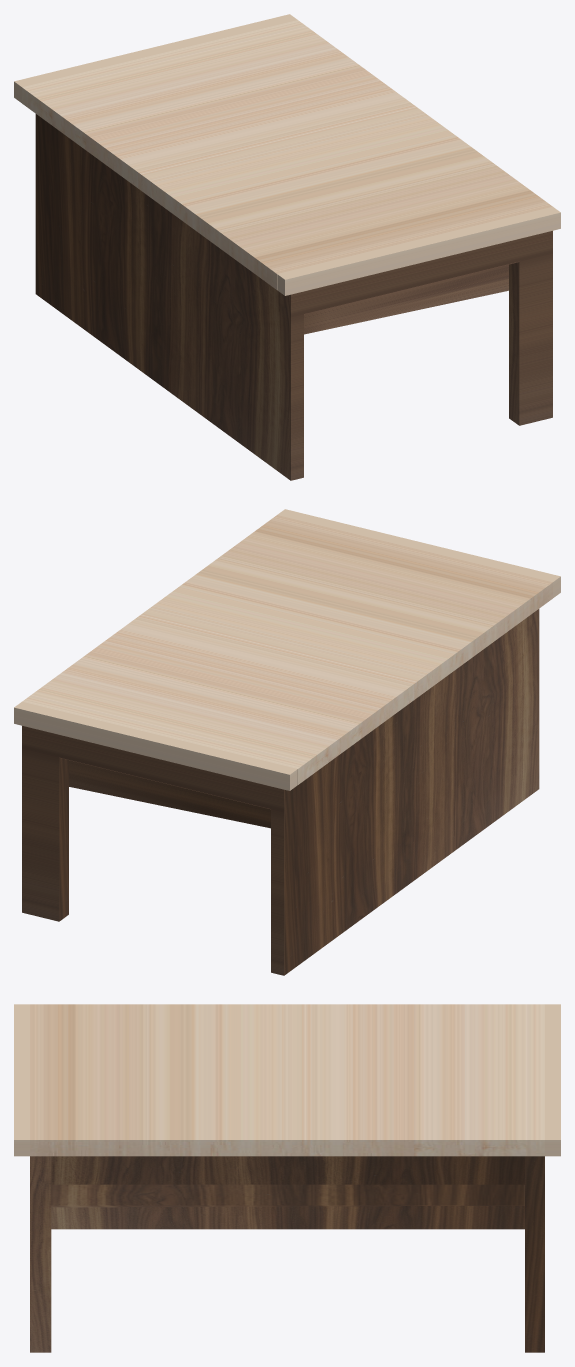
Rendered from Library_Table.fbx.
3 renders of one model, top to bottom at view 1: azimuth 30°, elevation 25°; view 2: azimuth 150°, elevation 25°; view 3: azimuth 270°, elevation 25°, orthographic.
Parts seen in each view (by area): view 1: pCube1; view 2: pCube1; view 3: pCube1.
Part boxes in pixels (x1,y1,x2,y2): pCube1: (14,14,560,480); pCube1: (14,509,560,975); pCube1: (14,1004,560,1352).
Bounding box in the file's own units: 3.97 × 2.9 × 6.76.
Materials: 2 (2 with a texture image).
